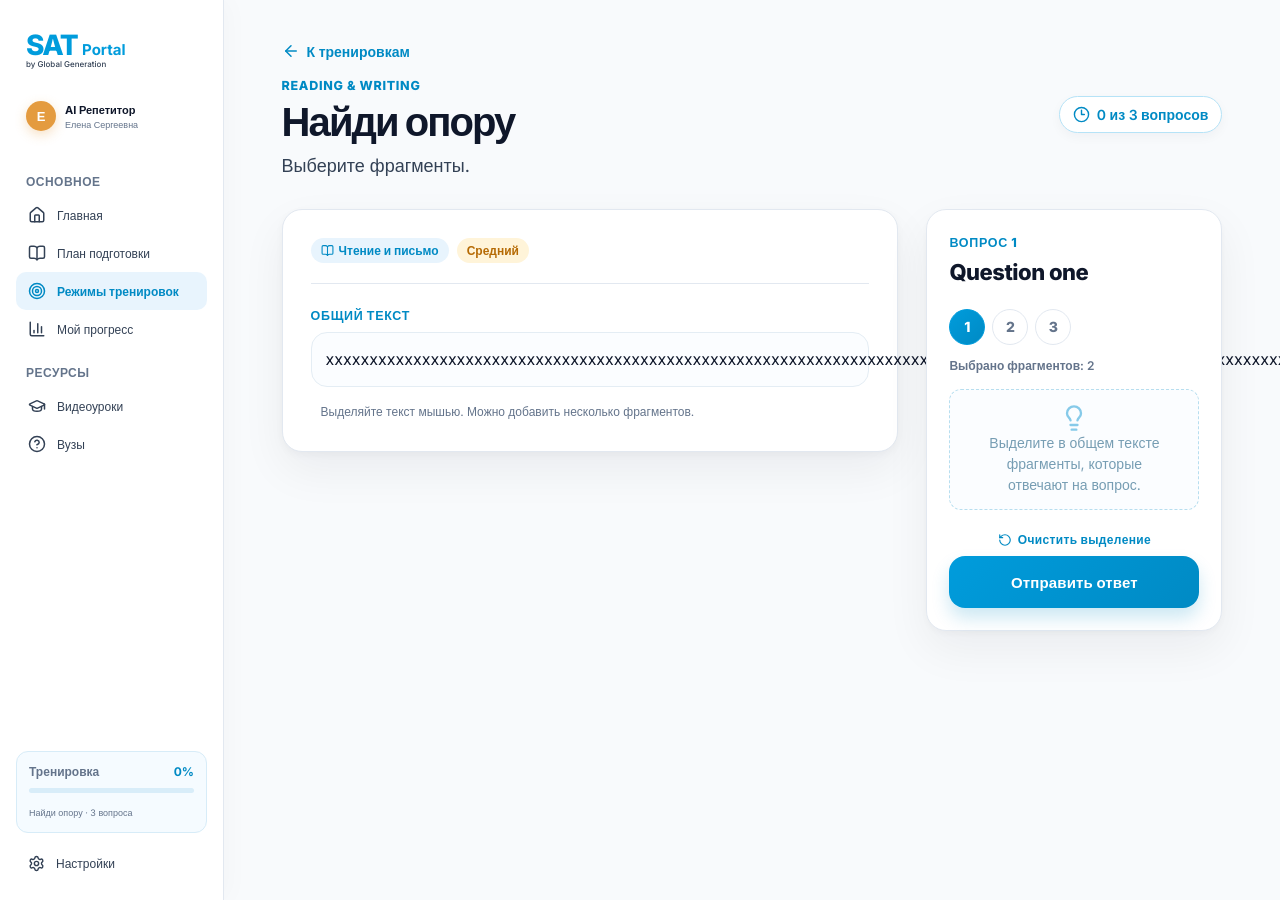
Test: App › submits an answer through the API
Expected: the heading "Найди опору" is shown, [282,97,514,146]
Step 1. Click the button "Отправить ответ" → (1074, 582), box [949,556,1199,608]
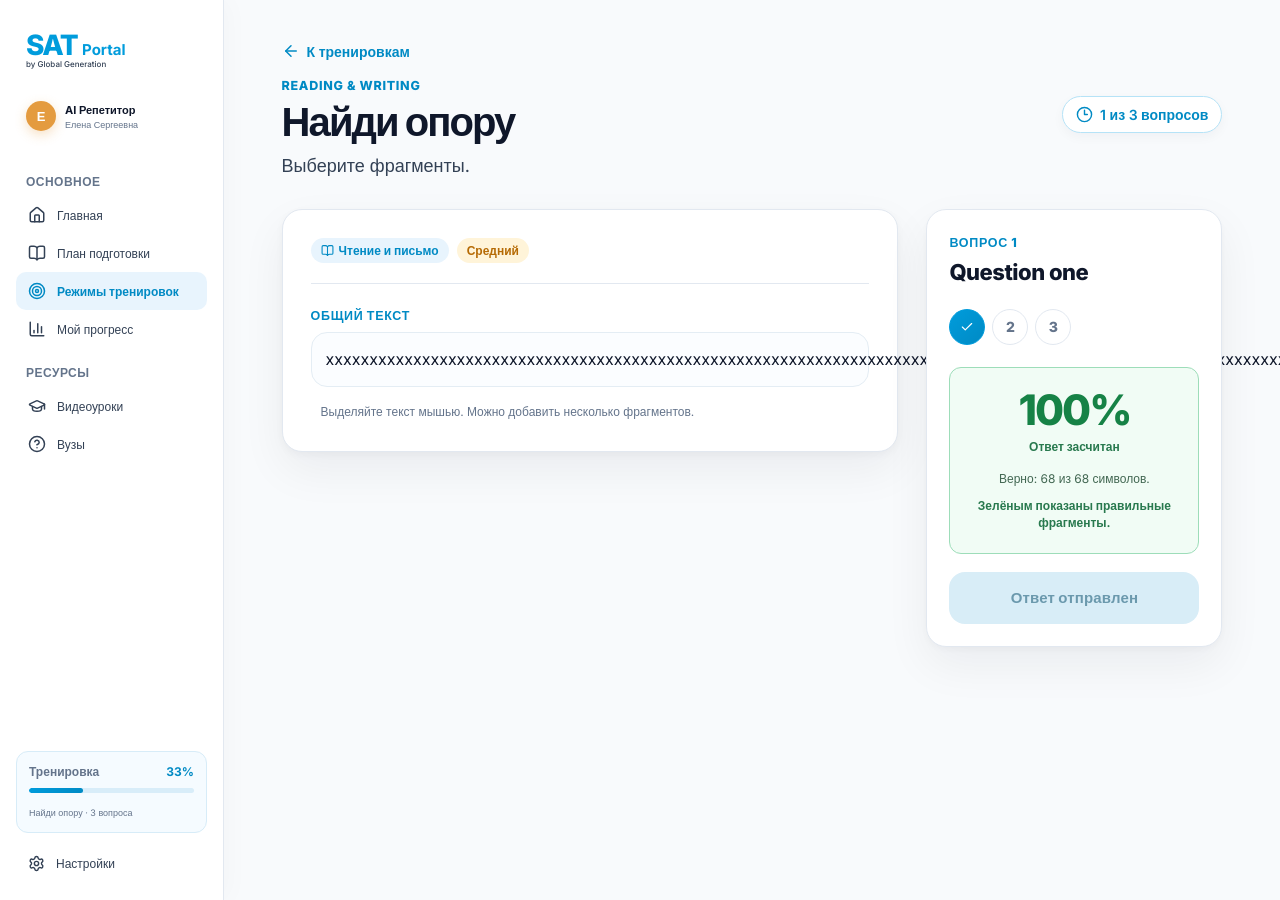
Expected: the text "Ответ засчитан" is shown, [1029,439,1120,454]
Expected: the text "1 из 3 вопросов" is shown, [1062,96,1222,133]
Expected: the button "Ответ отправлен" is shown, [949,572,1199,624]
